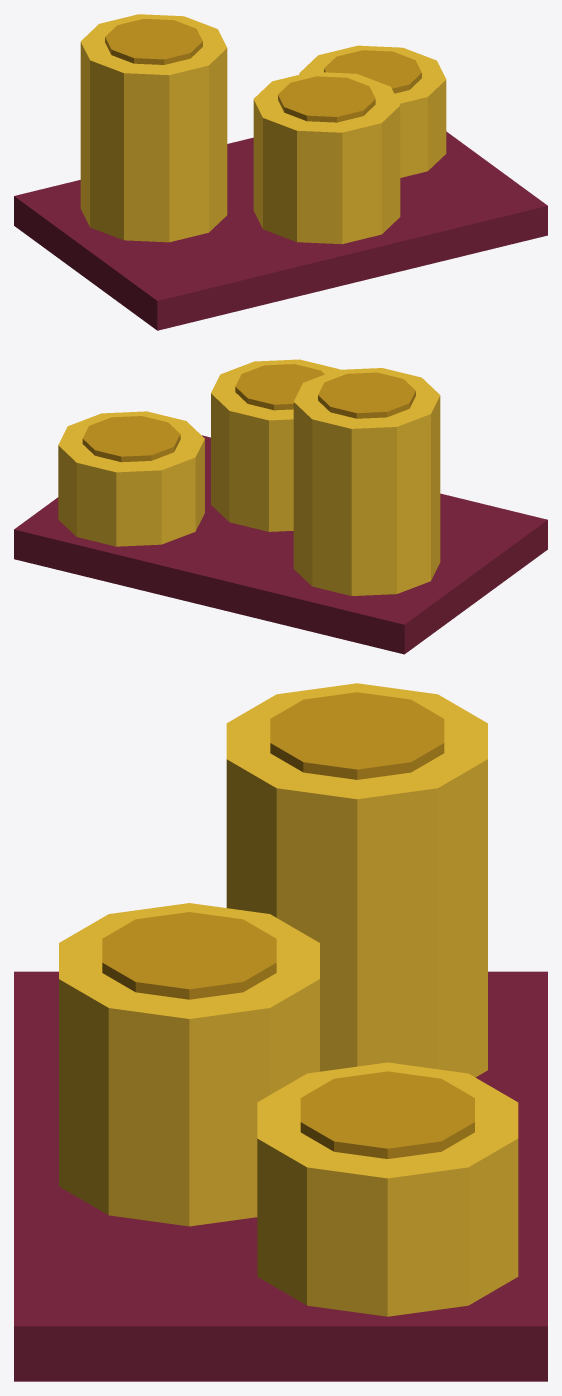
Rendered from loot_coins.glb.
3 renders of one model, top to bottom at view 1: azimuth 30°, elevation 25°; view 2: azimuth 150°, elevation 25°; view 3: azimuth 270°, elevation 25°, orthographic. The views are drawn at different scales.
Parts seen in each view (by area): view 1: item; view 2: item; view 3: item.
Part boxes in pixels (box(x1,y1,x2,y2)): item: box(14, 14, 547, 330); item: box(14, 359, 547, 654); item: box(14, 683, 547, 1381).
Size of the model in its own units: 0.11 by 0.0545 by 0.07.
1 material, 1 textured.
